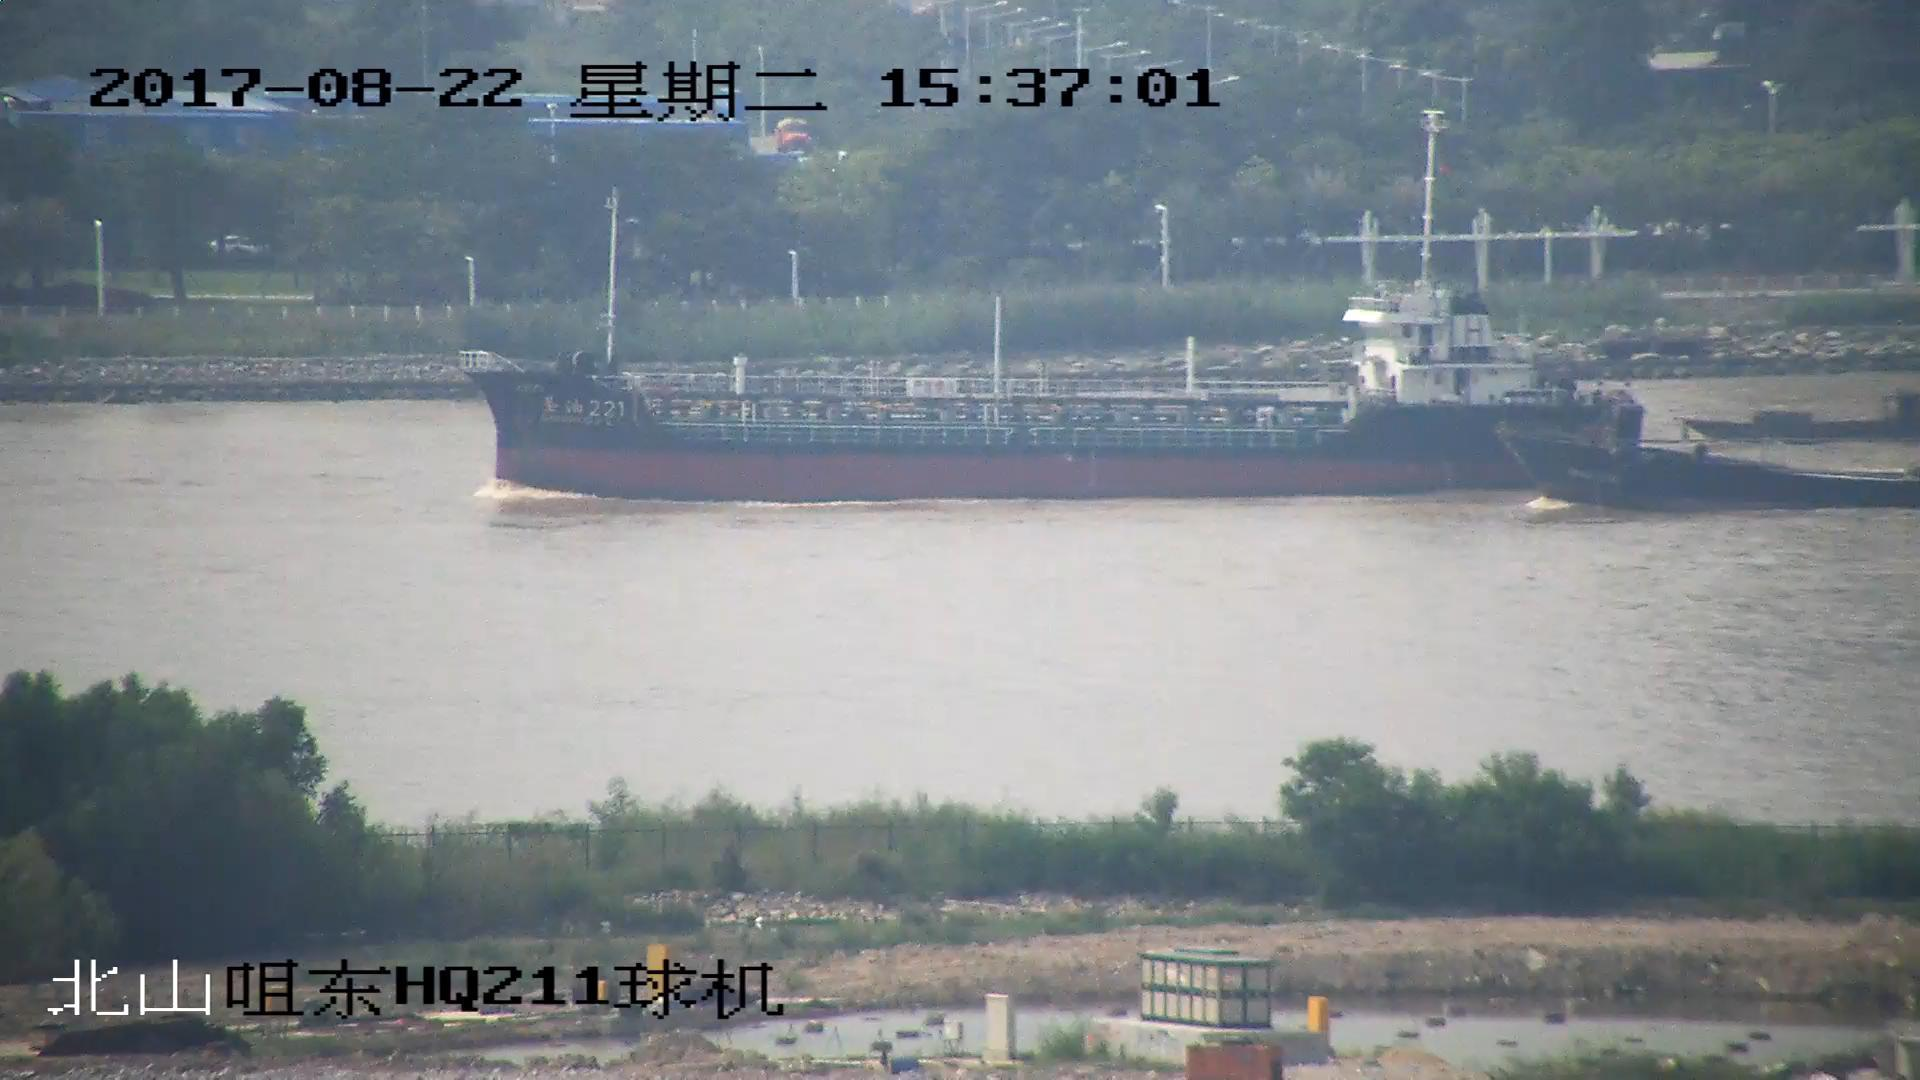Ship: (464, 117, 1647, 502), (1501, 421, 1920, 509), (1687, 394, 1920, 447)
